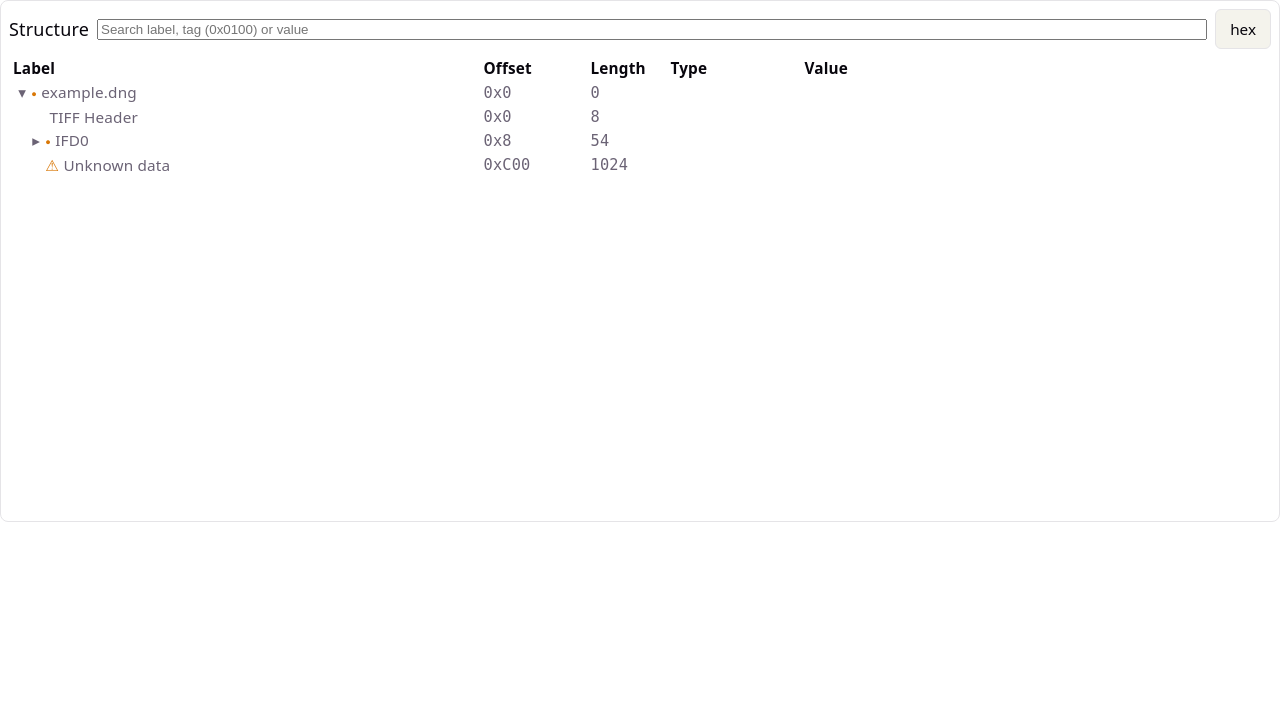
Test: StructureTree › filters by label, tag id and value, keeping ancestors
The width and height of the screenshot is (1280, 720).
Type "exposure" into the search field with test id "tree-search". click: (652, 29)
box: [97,18,1207,40]
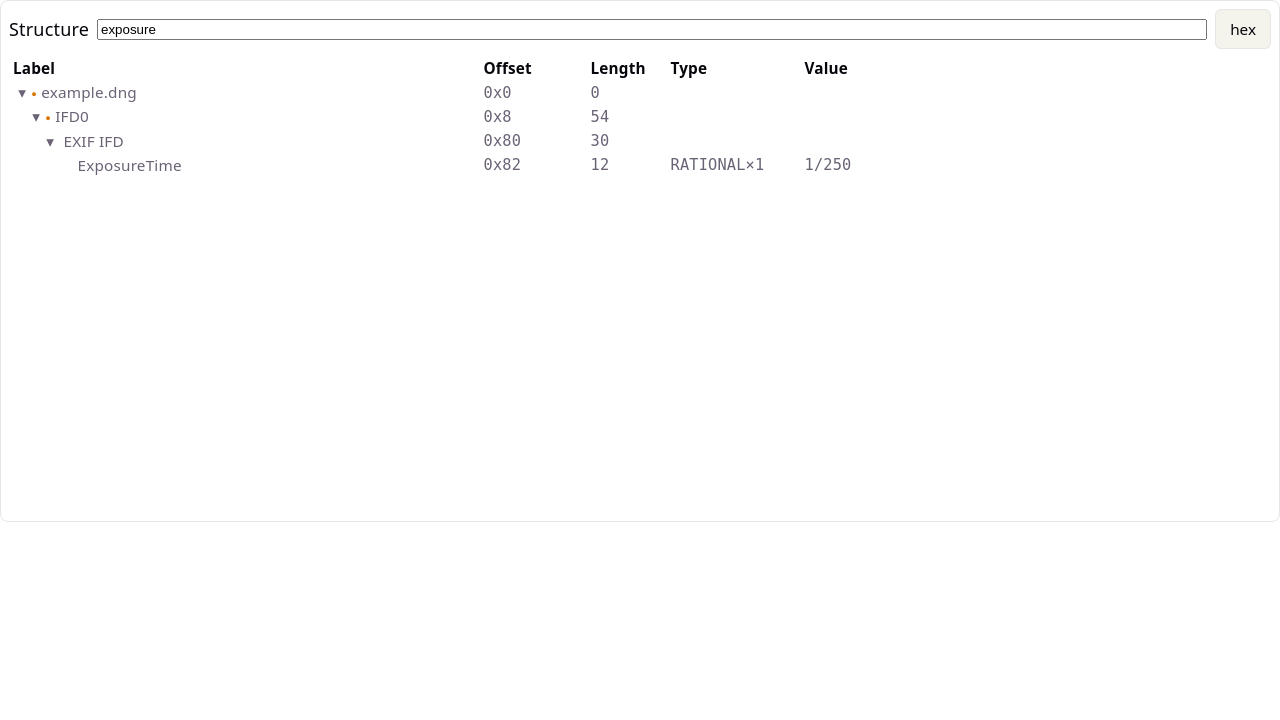
Replace the text in the search field with test id "tree-search" with "0x0100". click: (652, 29)
box: [97,18,1207,40]
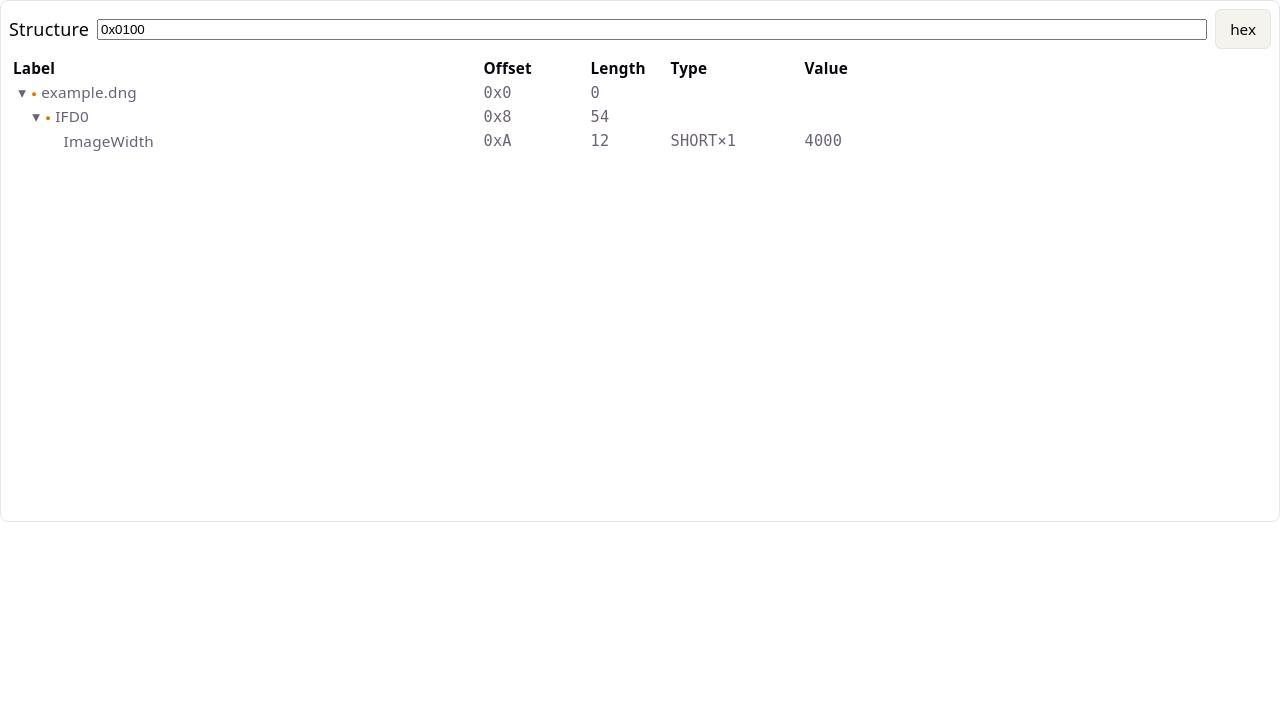
Replace the text in the search field with test id "tree-search" with "256". click: (652, 29)
box: [97,18,1207,40]
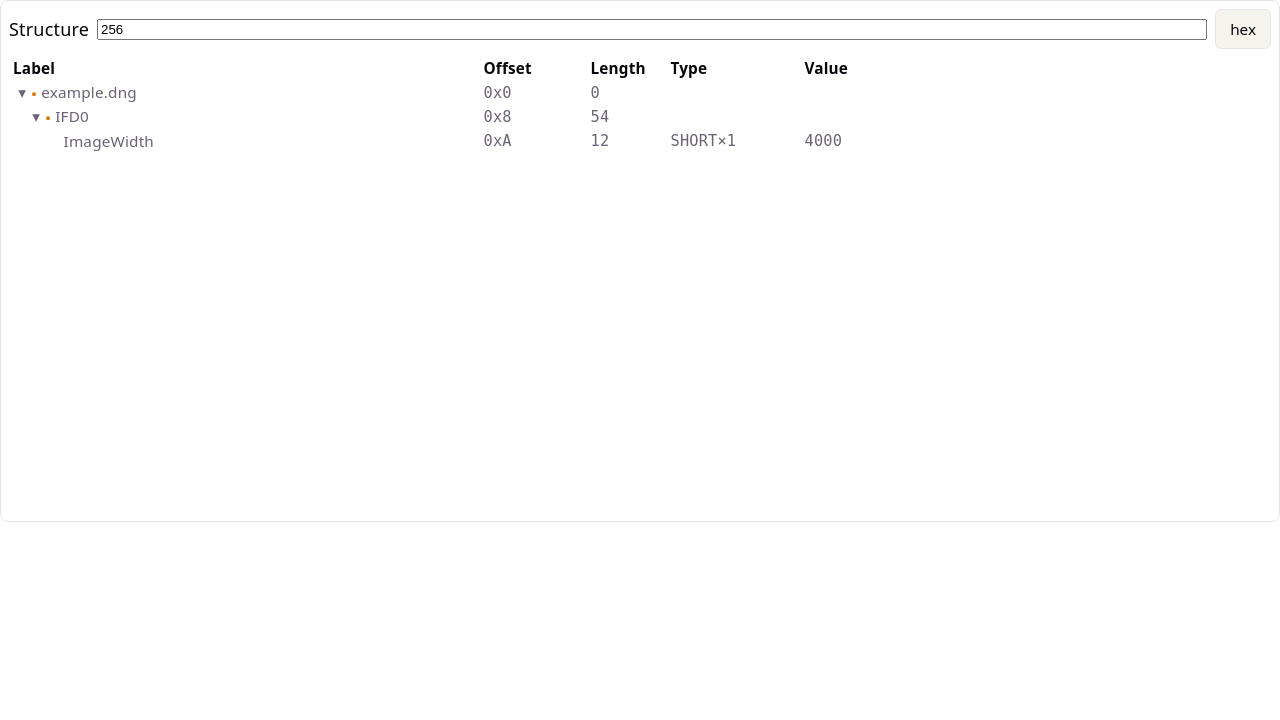
Replace the text in the search field with test id "tree-search" with "1/250". click: (652, 29)
box: [97,18,1207,40]
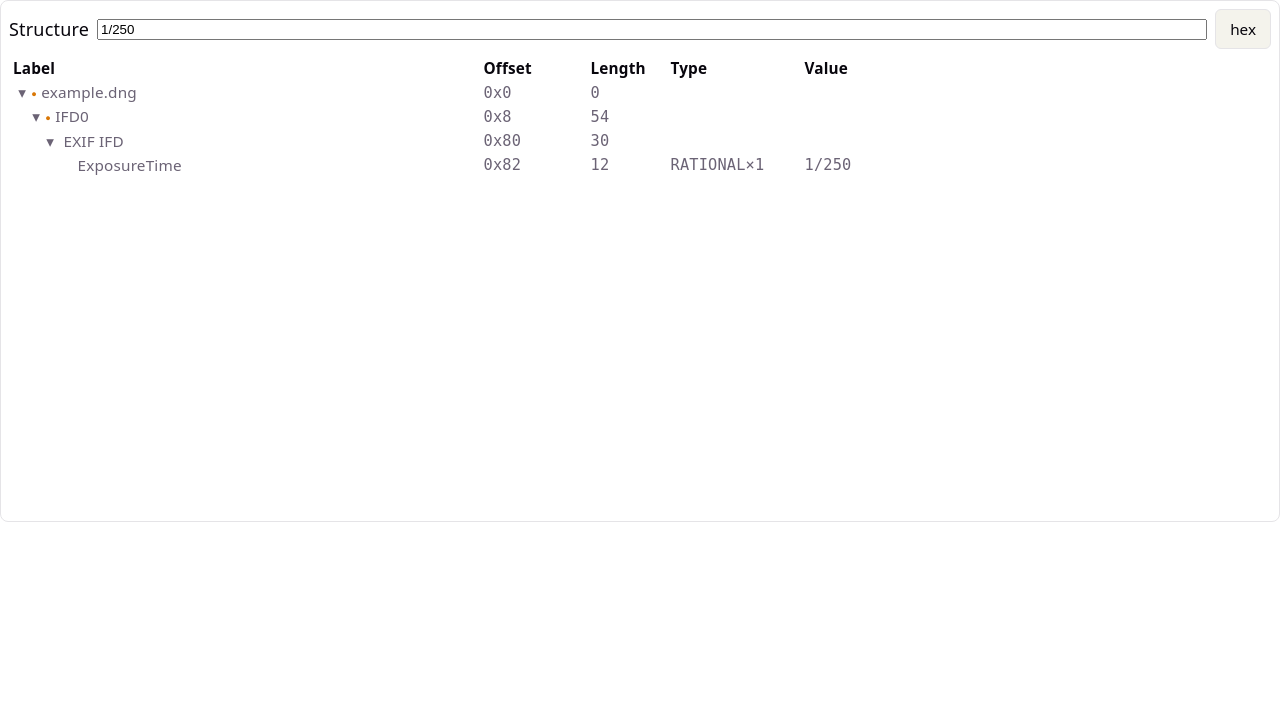
Replace the text in the search field with test id "tree-search" with "zzzz". click: (652, 29)
box: [97,18,1207,40]
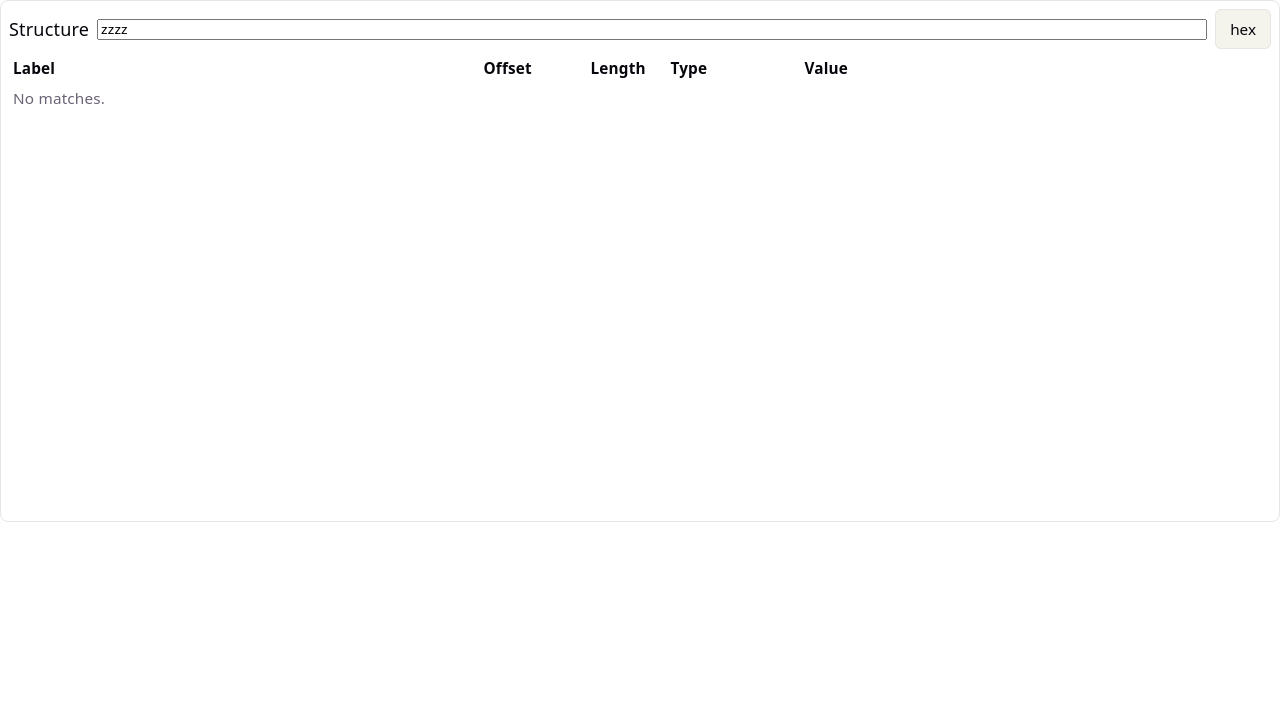
Result: no list items with test id "tree-row" are shown
